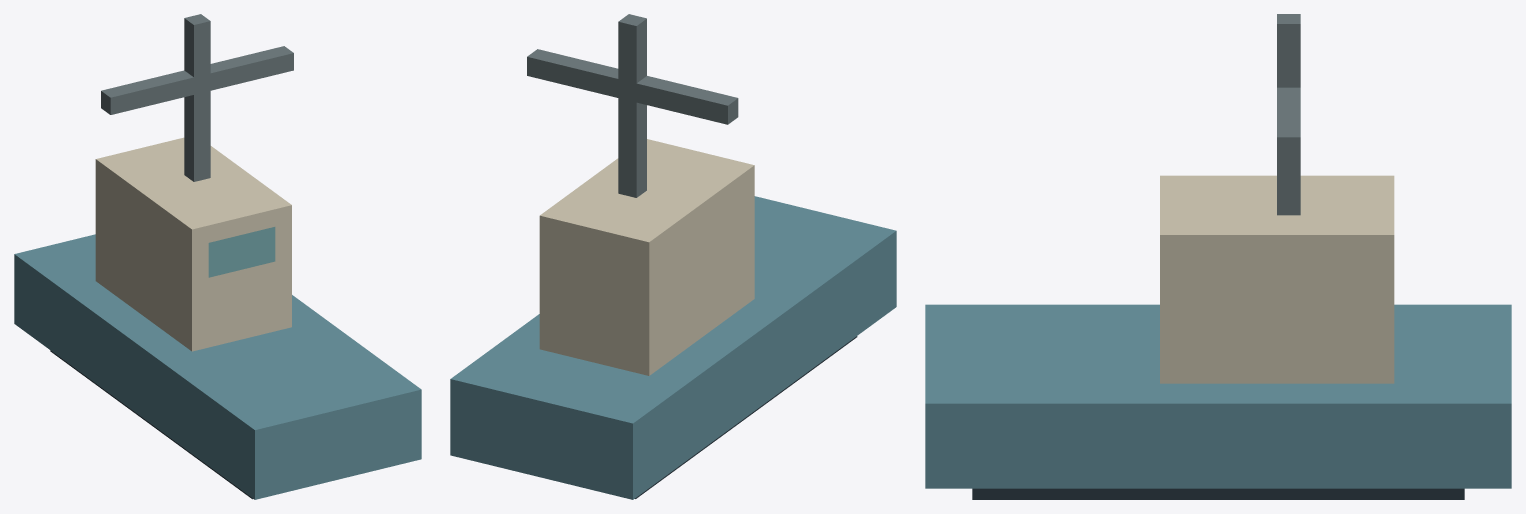
File: ocean-04.glb
The picture shows the model from 3 angles, left to right: view 1: azimuth 30°, elevation 25°; view 2: azimuth 150°, elevation 25°; view 3: azimuth 270°, elevation 25°; orthographic projection. The views are drawn at different scales.
Visible parts, largest first — view 1: Research ship; view 2: Research ship; view 3: Research ship.
Boxes of the visible parts, <box> form: Research ship: <box>14,14,421,499</box>; Research ship: <box>450,14,896,499</box>; Research ship: <box>925,14,1511,499</box>.
Size of the model in its own units: 0.88 by 1.68 by 2.
